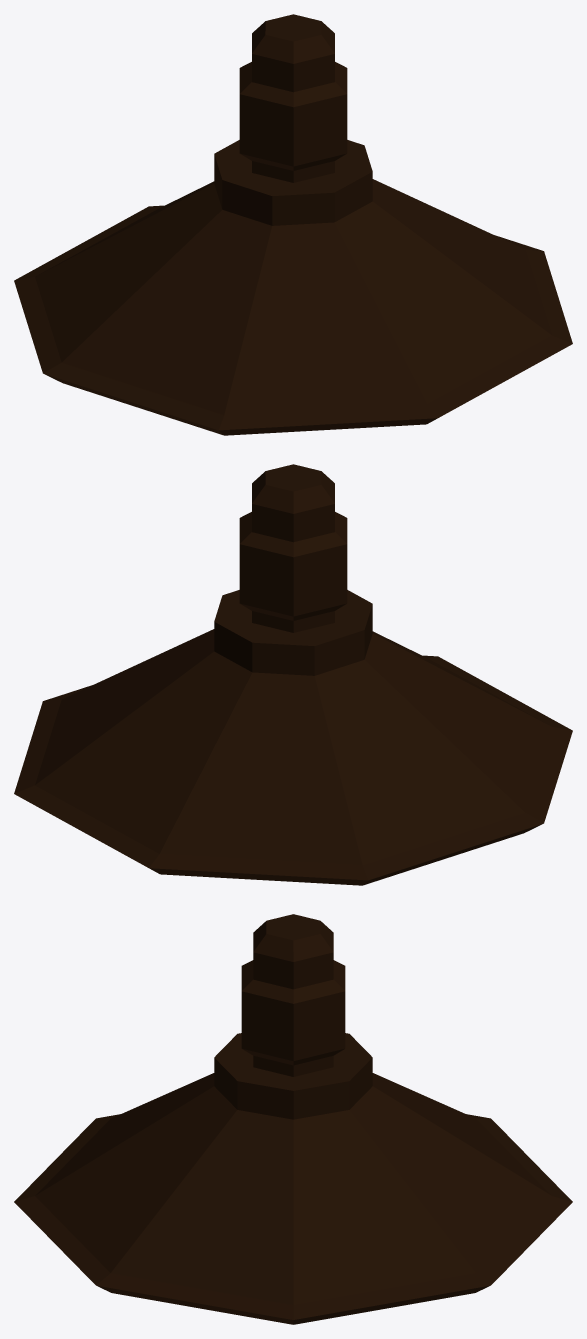
Rendered from SM_Prop_Light_03.002.obj.
The picture shows the model from 3 angles, top to bottom: view 1: azimuth 30°, elevation 25°; view 2: azimuth 150°, elevation 25°; view 3: azimuth 270°, elevation 25°; orthographic projection. The views are drawn at different scales.
Parts seen in each view (by area): view 1: SM_Prop_Light_03.002_0; view 2: SM_Prop_Light_03.002_0; view 3: SM_Prop_Light_03.002_0.
Part boxes in pixels (bbox=[...]): SM_Prop_Light_03.002_0: bbox=[14, 14, 572, 435]; SM_Prop_Light_03.002_0: bbox=[14, 464, 572, 885]; SM_Prop_Light_03.002_0: bbox=[14, 914, 572, 1324].
Size of the model in its own units: 0.5941 by 0.3387 by 0.5941.
